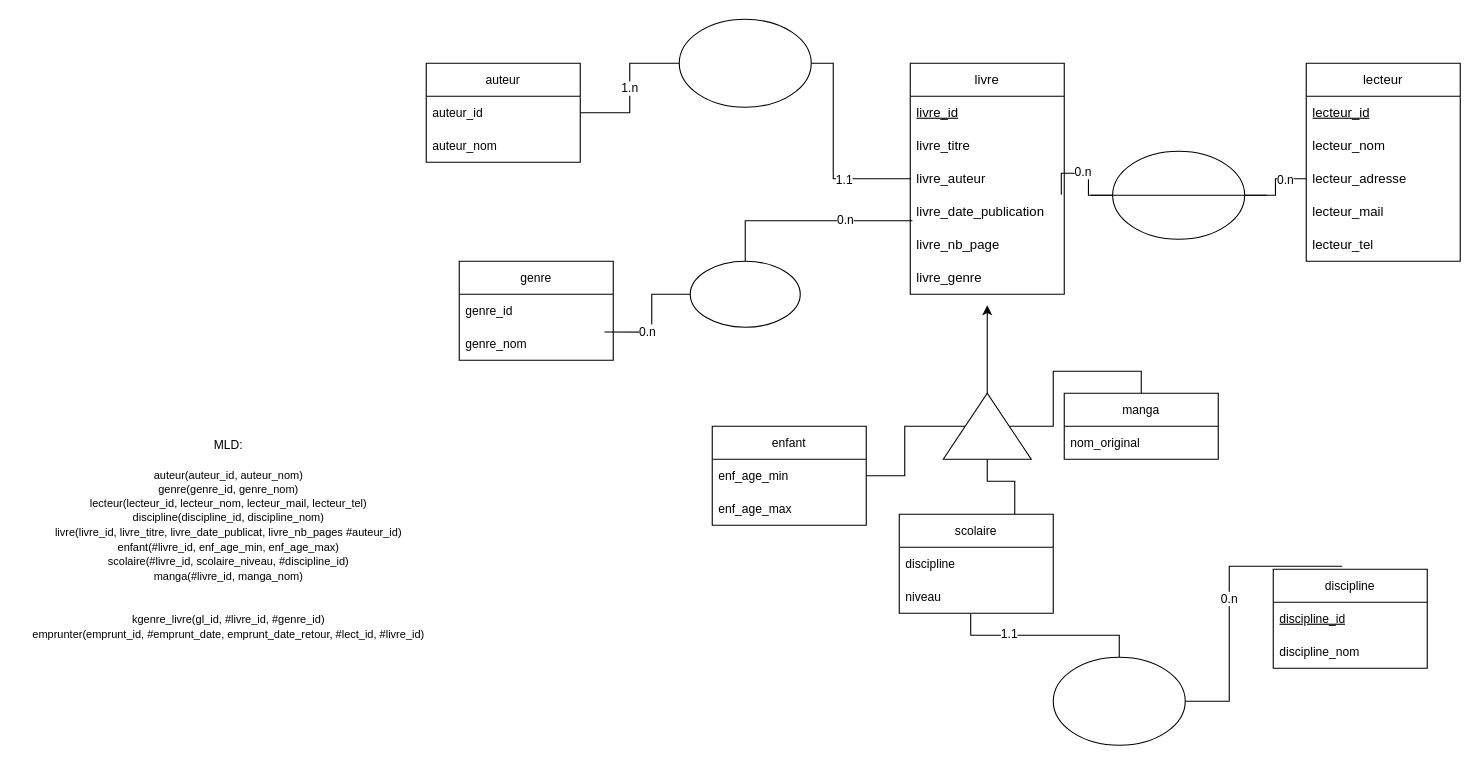
Some shapes in this 1480 by 765 pixel diagram are drawn without their labels. Each missing label, with the centre of its shape:
"appartenir" belongs at point (744, 293).
"concerner" belongs at point (1118, 700).
"ecrire" belongs at point (744, 62).
"emprunter date_emprunt date_retout" belongs at point (1178, 194).
